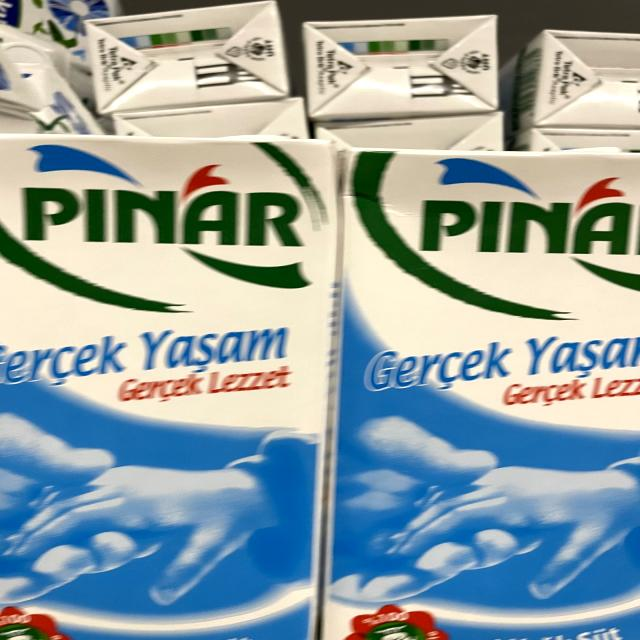milk: (0, 134, 331, 640), (342, 145, 640, 640)
